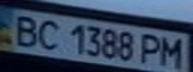1: (63, 20, 87, 56)
3: (81, 24, 103, 57)
8: (115, 29, 139, 63), (100, 26, 121, 61)
B: (6, 12, 42, 47)
C: (33, 17, 66, 52)
M: (157, 34, 190, 69)
P: (136, 32, 166, 65)
